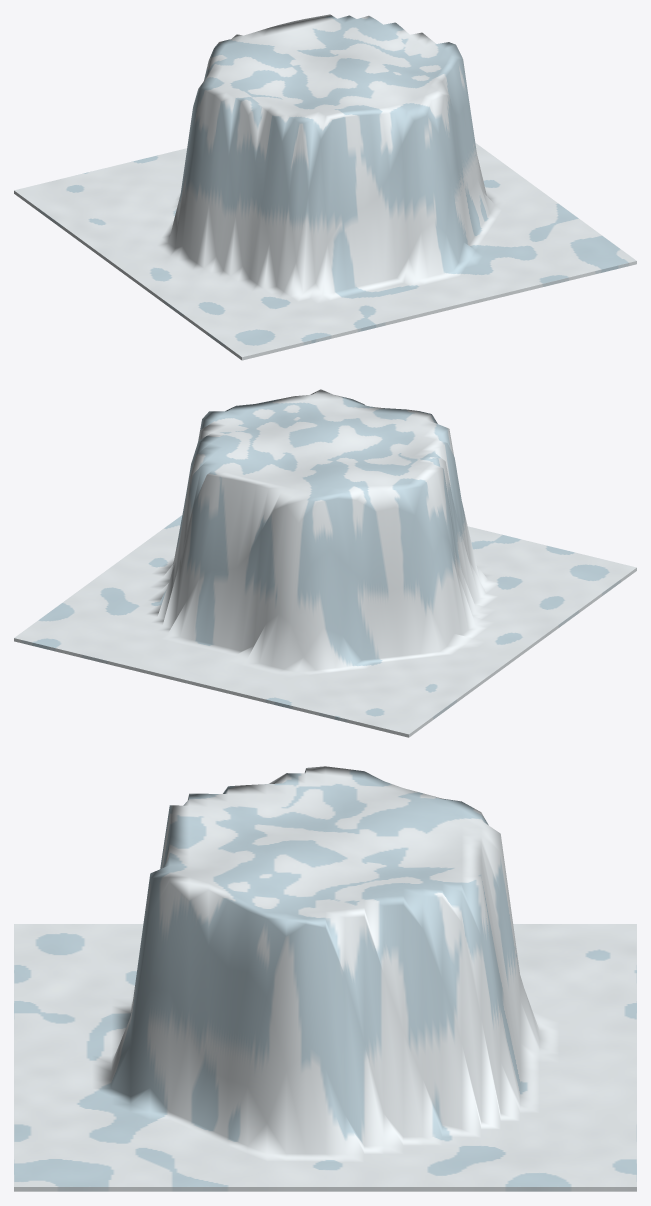
Rendered from Snow_Mountains_06.obj.
The picture shows the model from 3 angles, top to bottom: view 1: azimuth 30°, elevation 25°; view 2: azimuth 150°, elevation 25°; view 3: azimuth 270°, elevation 25°; orthographic projection. The views are drawn at different scales.
Bounding box in the file's own units: 10 × 3.93 × 10.
Materials: 1 (1 with a texture image).
